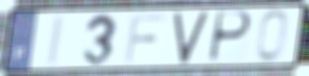0: (254, 8, 294, 64)
3: (81, 11, 122, 68)
F: (122, 12, 167, 65)
I: (46, 13, 67, 68)
P: (206, 9, 254, 65)
V: (172, 9, 211, 66)
